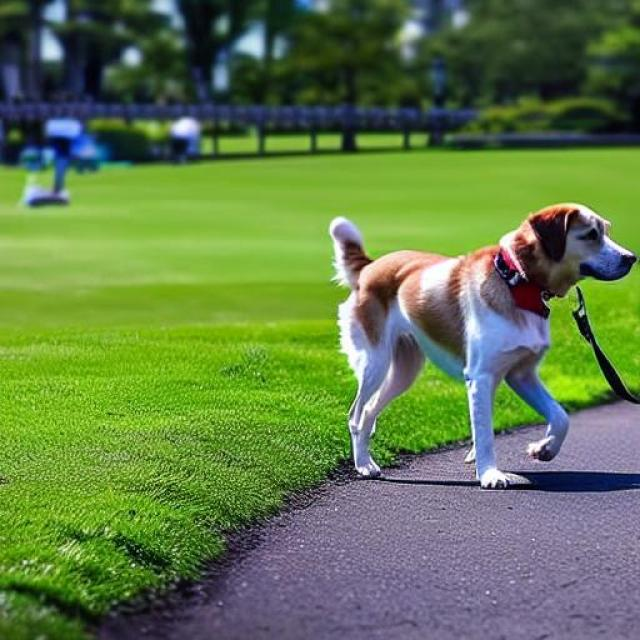Dog: (328, 202, 638, 490)
